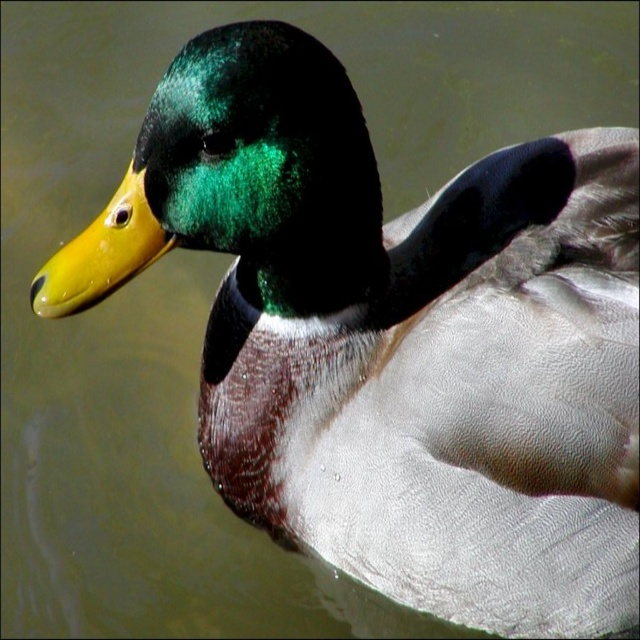Duck: (30, 22, 639, 639)
